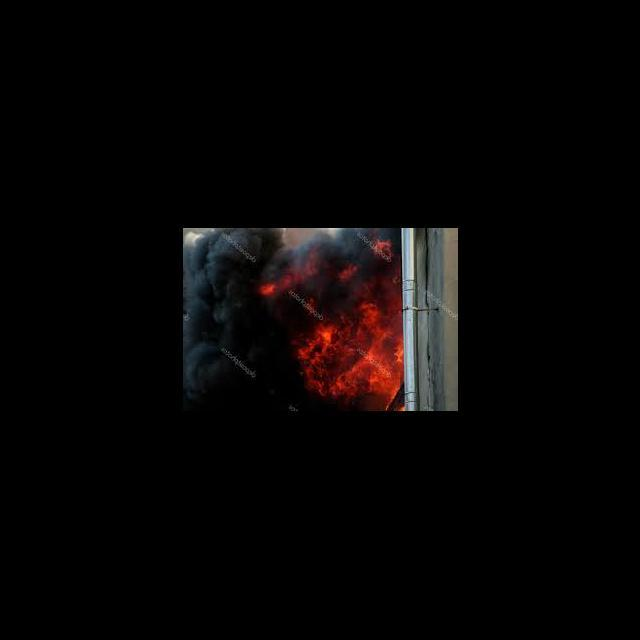Fire: (294, 283, 402, 409), (258, 274, 296, 296), (305, 246, 324, 279), (372, 239, 396, 262), (336, 262, 356, 284)
Smoke: (183, 228, 254, 410), (253, 308, 289, 409), (254, 228, 298, 270)
